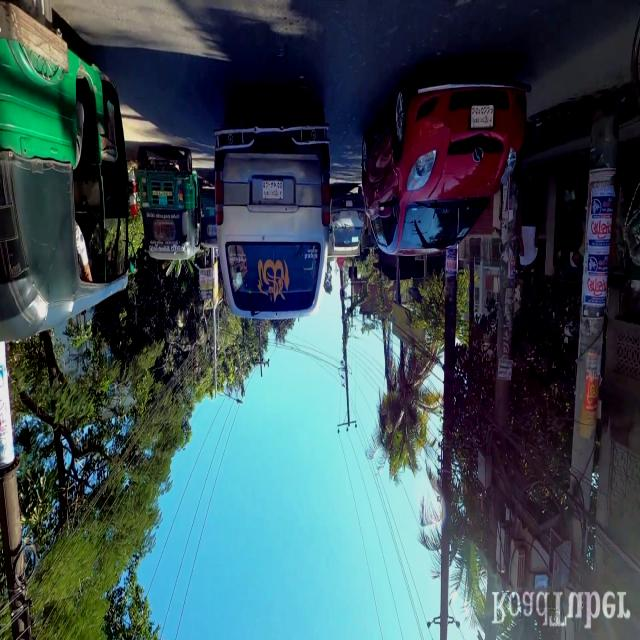red: (361, 68, 532, 256)
silver: (215, 106, 332, 327)
